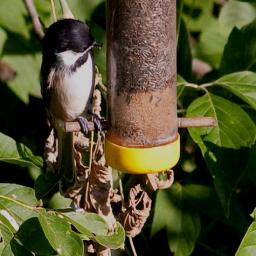Swallow: (38, 15, 108, 142)
